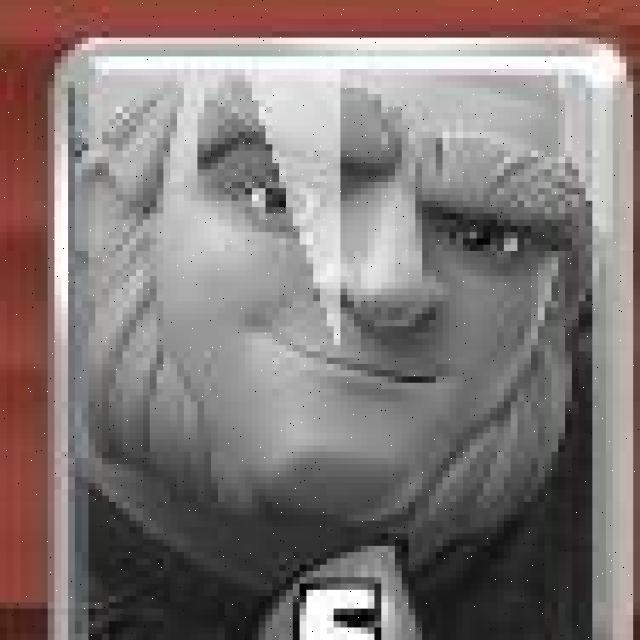Giant: (56, 41, 634, 640)
